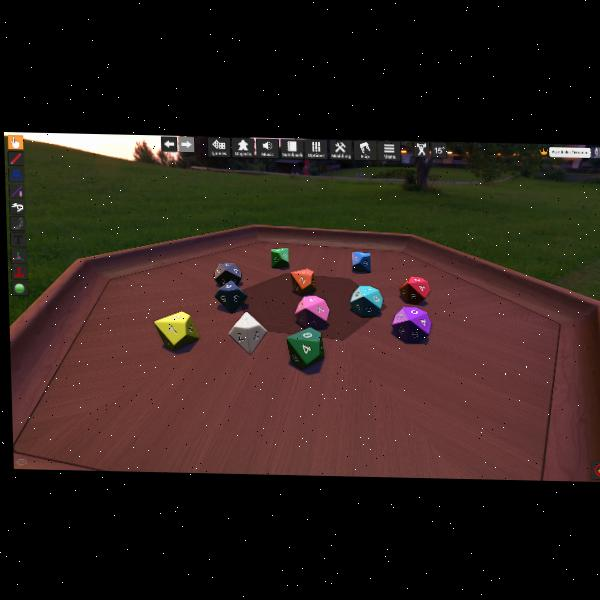d10: (155, 310, 201, 351), (227, 311, 269, 355), (286, 328, 323, 371), (393, 306, 432, 342), (294, 294, 327, 329), (215, 281, 249, 313), (350, 286, 382, 318), (400, 274, 431, 304), (214, 262, 242, 288), (291, 267, 316, 294), (271, 247, 290, 269), (351, 250, 370, 272)
